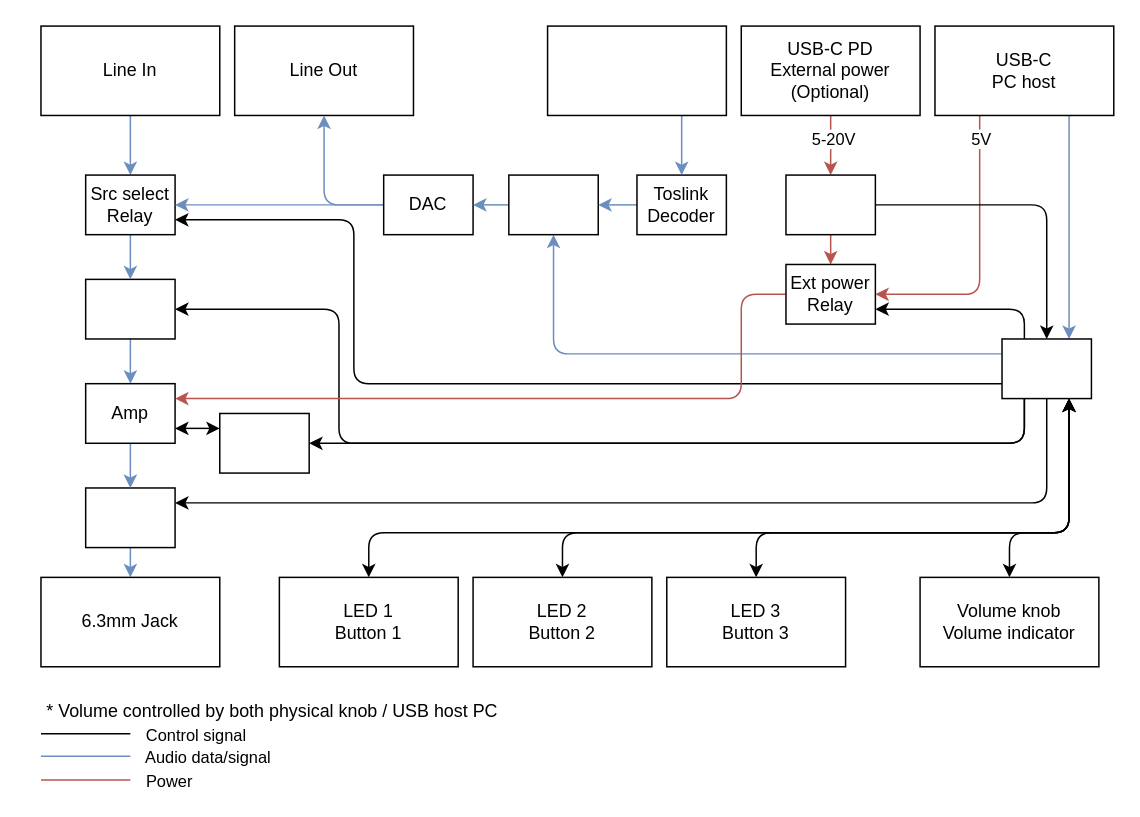
Image size: 1140x817. Some labels were removed from this diagram. The box of each missing label's shape, as (x1, y1, x2, y2) in pixels:
Anti-pop Relay: (84, 486, 175, 548)
Coax In: (546, 25, 726, 115)
Gain µPot: (218, 412, 309, 473)
MCU: (1001, 337, 1091, 399)
Mux: (507, 174, 598, 235)
PD Ctrl: (784, 174, 875, 235)
Volume µPot*: (84, 278, 175, 339)
